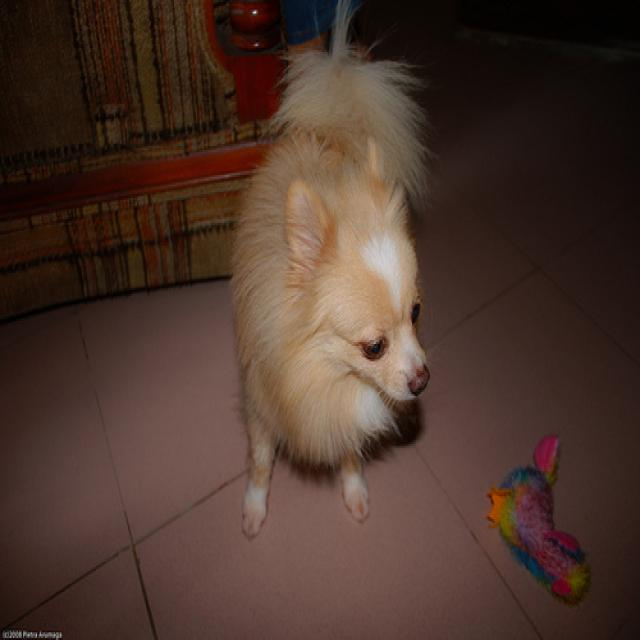dog-pomeranian: (223, 2, 442, 554)
